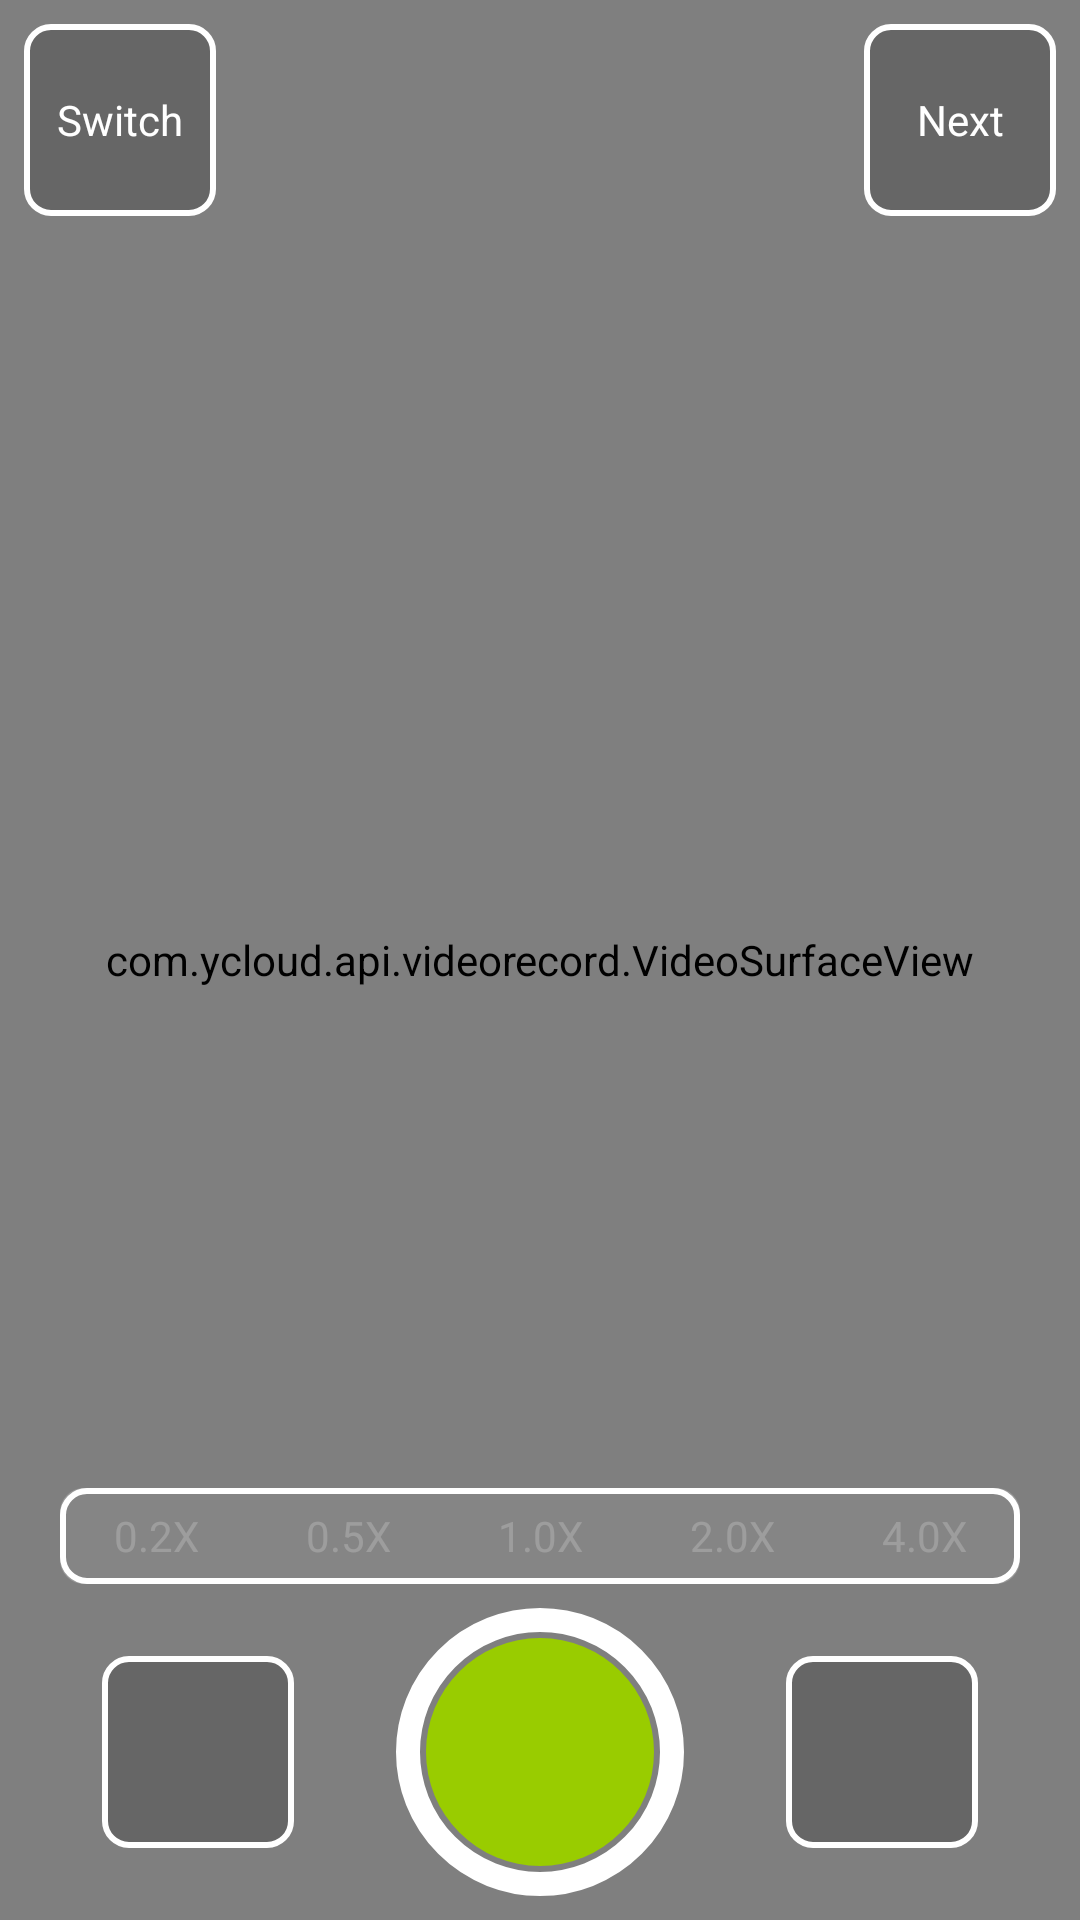

Screen size 1080px x 1920px. Icon name, then its box in pixels as (x1, y1, x2, y2):
start record: (396, 1608, 684, 1896)
